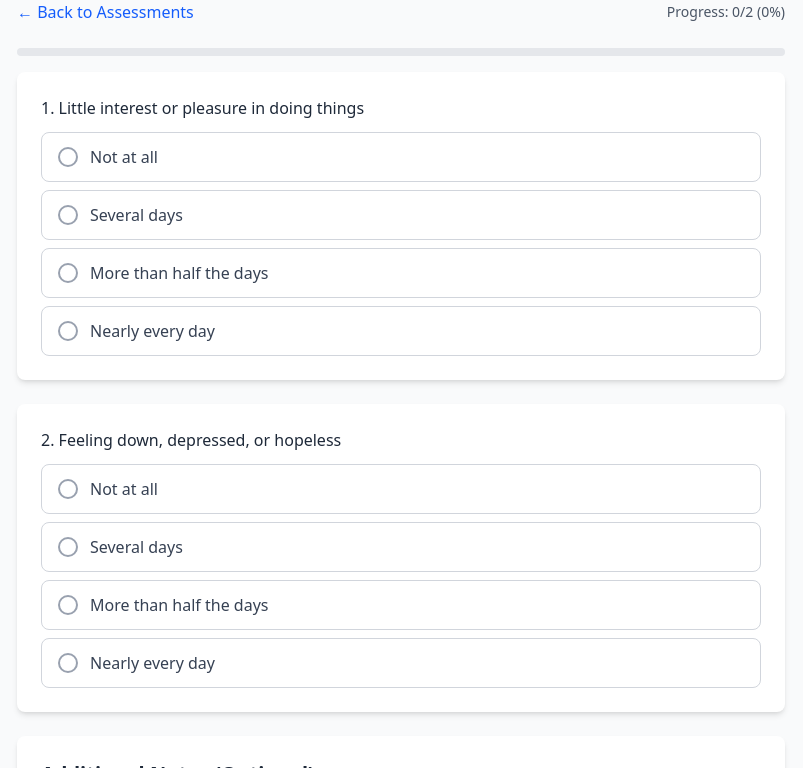
it: AssessmentForm › Draft Functionality › Save Draft Button › should show Saving Draft... during save
The width and height of the screenshot is (803, 768).
Click the 1st radio button labelled "Not at all": click(124, 157) [41,132,761,182]
(page scrolled)
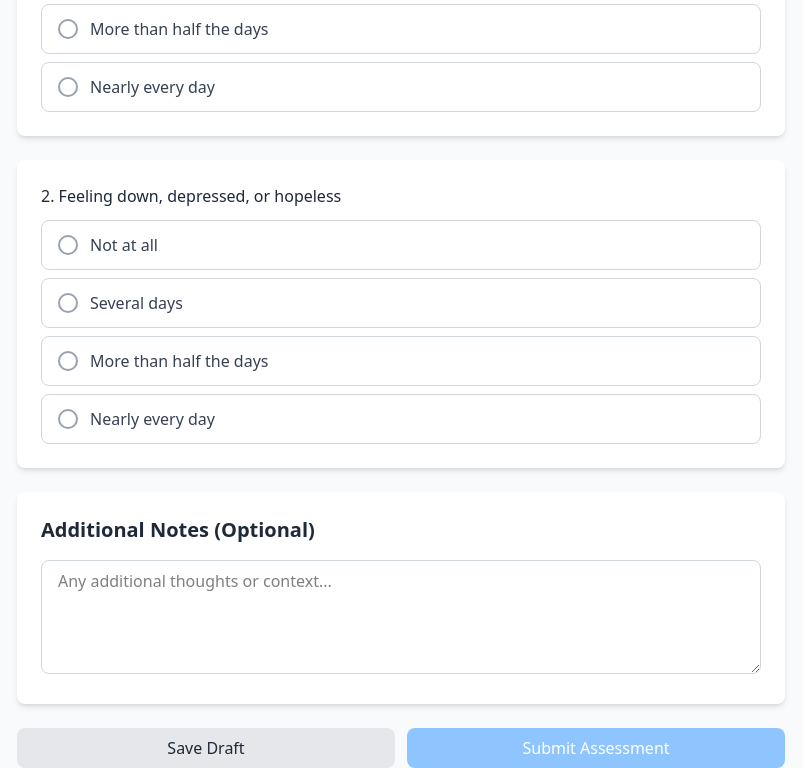
Click the button "Save Draft": click(206, 748) [17,728,395,767]
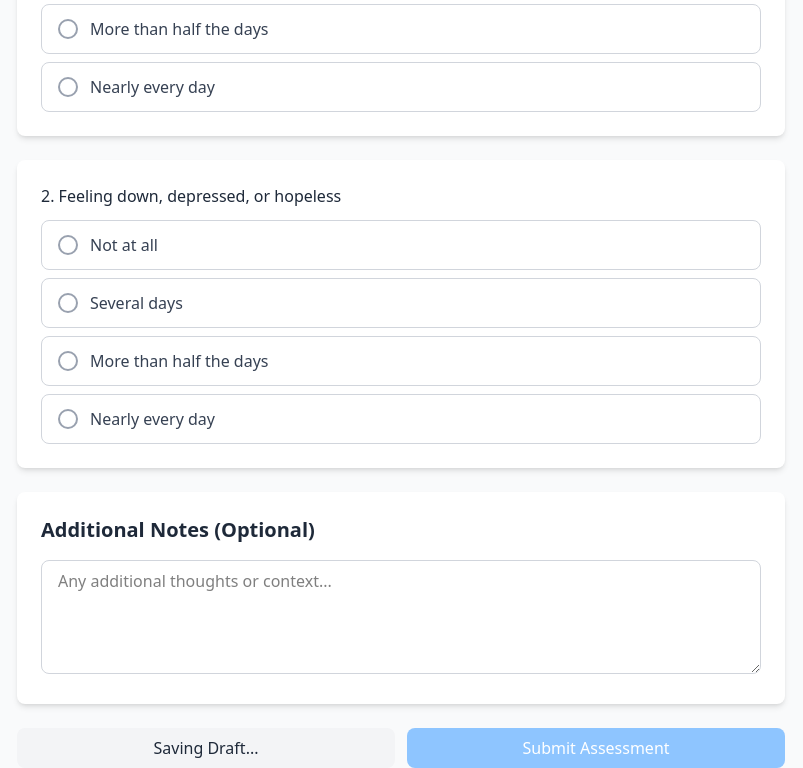
Expected: the text "Saving Draft..." is shown, [17,728,395,767]
